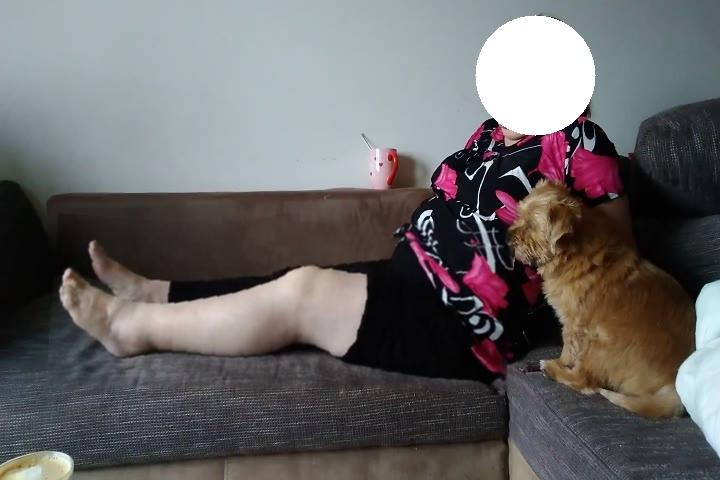lowerbody: (51, 222, 514, 389)
